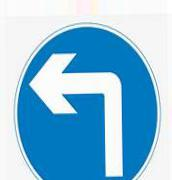left: (13, 22, 161, 180)
